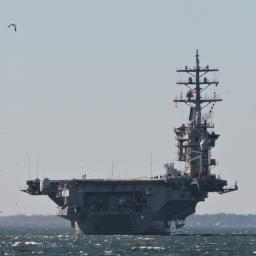Portanaves: (19, 47, 243, 237)
